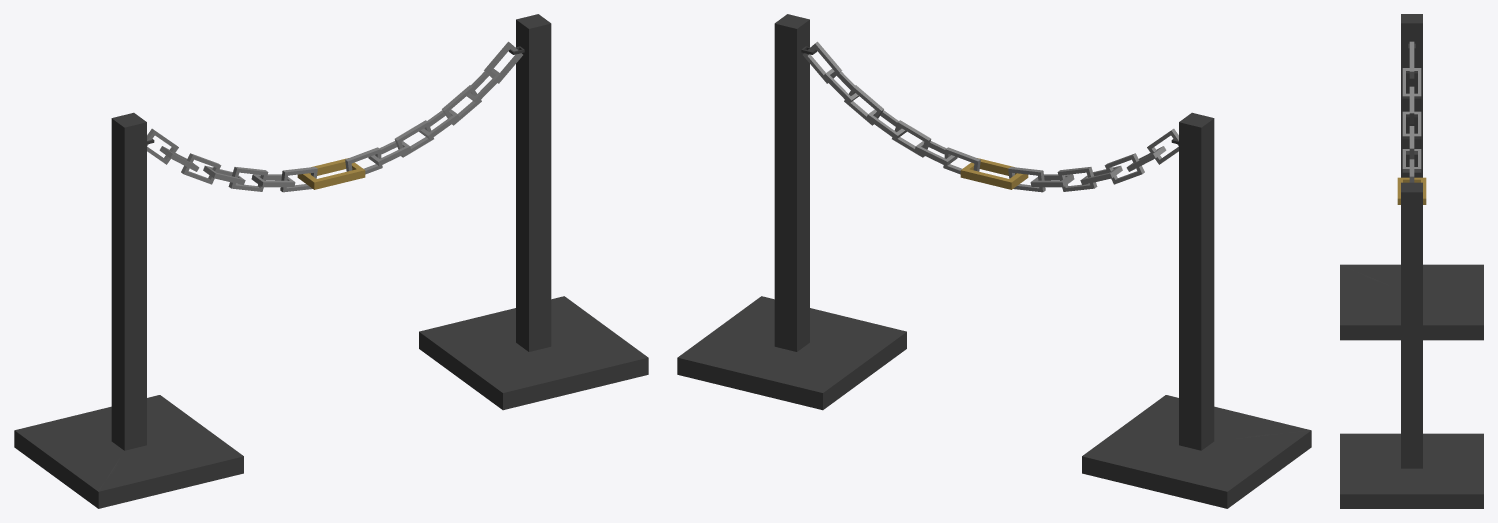
File: Chain.fbx
3 views of the same model, side by side, from view 1: azimuth 30°, elevation 25°; view 2: azimuth 150°, elevation 25°; view 3: azimuth 270°, elevation 25° (orthographic). The views are drawn at different scales.
Visible parts, largest first — view 1: Chain; view 2: Chain; view 3: Chain.
Boxes of the visible parts, x1,y1,x2,y2 form: Chain: (14, 14, 648, 508); Chain: (677, 14, 1311, 508); Chain: (1340, 14, 1483, 508).
Bounding box in the file's own units: 425 × 113 × 251.
1 material, 1 textured.
